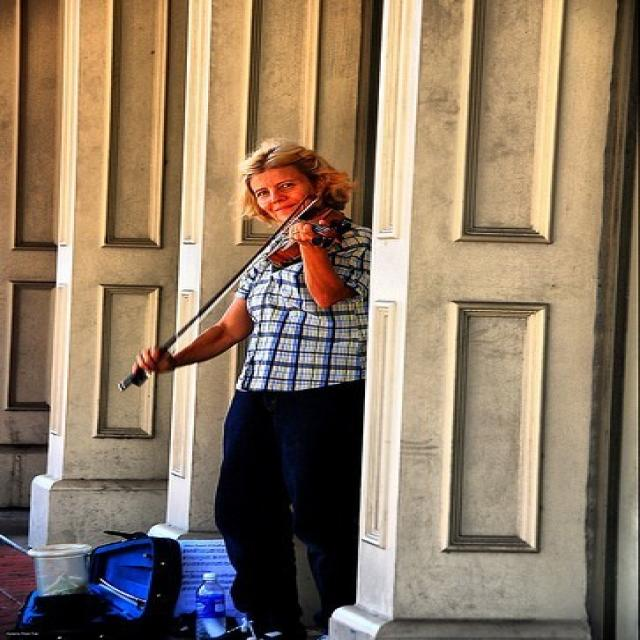violin: (262, 202, 347, 268)
